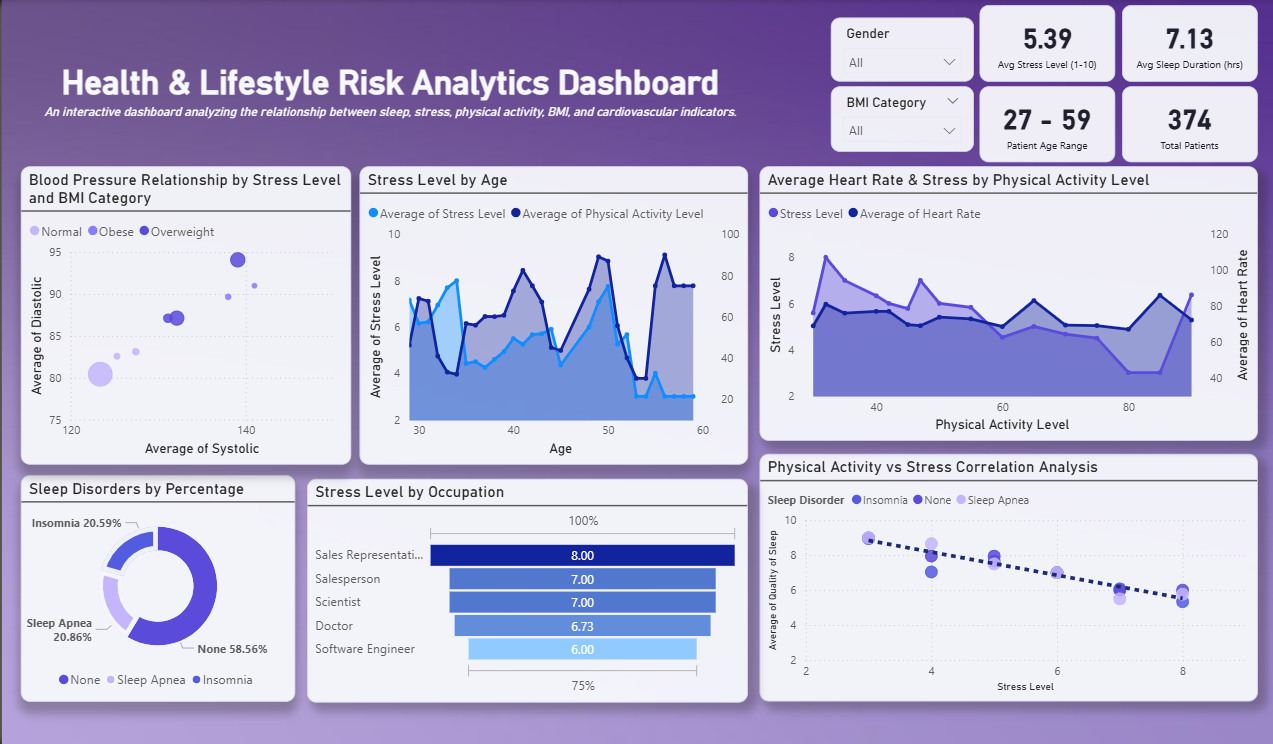

The dashboard page shown, as its layout file describes it:
{"tool":"powerbi","page":{"name":"Page 1","canvas":[1366,800],"ordinal":0},"visuals":[{"type":"slicer","fields":{"Values":["Sleep_health_and_lifestyle_dataset.Gender"]},"box":[888.5,19.2,153.8,68.5],"z":0},{"type":"slicer","fields":{"Values":["Sleep_health_and_lifestyle_dataset.BMI Category"]},"box":[888.5,92.3,153.8,70],"z":1000},{"type":"scatterChart","title":"Physical Activity vs Stress Correlation Analysis","fields":{"X":["Sleep_health_and_lifestyle_dataset.Stress Level"],"Y":["Avg(Sleep_health_and_lifestyle_dataset.Quality of Sleep)"],"Series":["Sleep_health_and_lifestyle_dataset.Sleep Disorder"]},"box":[812.9,487.1,534.3,265.7],"z":2000},{"type":"lineChart","title":"Stress Level by Age","fields":{"Y":["Avg(Sleep_health_and_lifestyle_dataset.Stress Level)"],"Y2":["Avg(Sleep_health_and_lifestyle_dataset.Physical Activity Level)"],"Category":["Sleep_health_and_lifestyle_dataset.Age"]},"box":[382.9,178.6,417.1,320],"z":3000},{"type":"donutChart","title":"Sleep Disorders by Percentage","fields":{"Category":["Sleep_health_and_lifestyle_dataset.Sleep Disorder"],"Y":["CountNonNull(Sleep_health_and_lifestyle_dataset.Sleep Disorder)"]},"box":[20,510,294.3,242.9],"z":4000},{"type":"funnel","title":"Stress Level by Occupation","fields":{"Category":["Sleep_health_and_lifestyle_dataset.Occupation"],"Y":["Avg(Sleep_health_and_lifestyle_dataset.Stress Level)"]},"box":[327.1,512.9,472.9,240],"z":5000},{"type":"card","fields":{"Values":["Avg(Sleep_health_and_lifestyle_dataset.Sleep Duration)"]},"box":[1201.1,5.6,145.6,82.2],"z":6000},{"type":"card","fields":{"Values":["Avg(Sleep_health_and_lifestyle_dataset.Stress Level)"]},"box":[1047.8,5.6,145.6,82.2],"z":7000},{"type":"card","fields":{"Values":["CountNonNull(Sleep_health_and_lifestyle_dataset.Person ID)"]},"box":[1200.8,92.3,145.4,81.5],"z":8000},{"type":"scatterChart","title":"Blood Pressure Relationship by Stress Level and BMI Category","fields":{"X":["Avg(Sleep_health_and_lifestyle_dataset.Systolic)"],"Y":["Avg(Sleep_health_and_lifestyle_dataset.Diastolic)"],"Series":["Sleep_health_and_lifestyle_dataset.BMI Category"],"Category":["Sleep_health_and_lifestyle_dataset.Sleep Disorder"],"Size":["CountNonNull(Sleep_health_and_lifestyle_dataset.Stress Level)"]},"box":[20,178.6,354.3,320],"z":9000},{"type":"areaChart","title":"Average Heart Rate & Stress by Physical Activity Level","fields":{"Y":["Avg(Sleep_health_and_lifestyle_dataset.Stress Level)"],"Category":["Sleep_health_and_lifestyle_dataset.Physical Activity Level"],"Y2":["Avg(Sleep_health_and_lifestyle_dataset.Heart Rate)"]},"box":[812.9,178.6,534.3,294.3],"z":10000},{"type":"card","fields":{"Values":["Sleep_health_and_lifestyle_dataset.Age Range Card"]},"box":[1047.7,92.3,145.4,81.5],"z":11000},{"type":"textbox","title":"Health & Lifestyle Risk Analytics Dashboard","box":[58.9,66.7,720,42.2],"z":12000},{"type":"textbox","title":"An interactive dashboard analyzing the relationship between sleep, stress, physical activity, BMI, and cardiovascular indicators.","box":[40,112.2,758.9,21.1],"z":13000}]}

Visuals, with their boxes in screenshot pixels (x1, y1, x2, y2), scaled from the page's 1366x800 canvas onto the 1273x744 screenshot:
slicer - Sleep_health_and_lifestyle_dataset.Gender: crop(828, 18, 971, 82)
slicer - Sleep_health_and_lifestyle_dataset.BMI Category: crop(828, 86, 971, 151)
"Physical Activity vs Stress Correlation Analysis" scatterChart: crop(758, 453, 1255, 700)
"Stress Level by Age" lineChart: crop(357, 166, 746, 464)
"Sleep Disorders by Percentage" donutChart: crop(19, 474, 293, 700)
"Stress Level by Occupation" funnel: crop(305, 477, 746, 700)
card - Avg(Sleep_health_and_lifestyle_dataset.Sleep Duration): crop(1119, 5, 1255, 82)
card - Avg(Sleep_health_and_lifestyle_dataset.Stress Level): crop(976, 5, 1112, 82)
card - CountNonNull(Sleep_health_and_lifestyle_dataset.Person ID): crop(1119, 86, 1255, 162)
"Blood Pressure Relationship by Stress Level and BMI Category" scatterChart: crop(19, 166, 349, 464)
"Average Heart Rate & Stress by Physical Activity Level" areaChart: crop(758, 166, 1255, 440)
card - Sleep_health_and_lifestyle_dataset.Age Range Card: crop(976, 86, 1112, 162)
"Health & Lifestyle Risk Analytics Dashboard" textbox: crop(55, 62, 726, 101)
"An interactive dashboard analyzing the relationship between sleep, stress, physical activity, BMI, and cardiovascular indicators." textbox: crop(37, 104, 745, 124)
